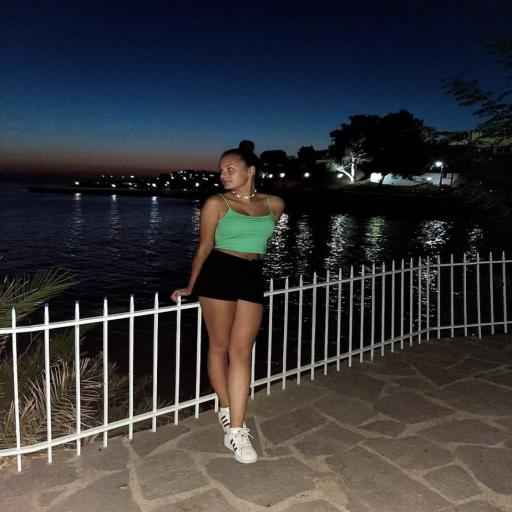marija: (220, 154, 248, 190)
